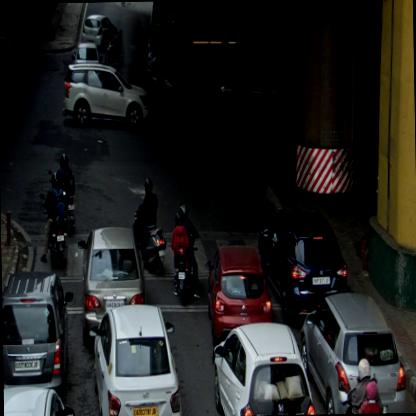bus: (143, 0, 237, 72)
car: (298, 292, 408, 414), (88, 302, 183, 415), (257, 208, 346, 324), (211, 320, 319, 415), (2, 272, 74, 392), (78, 224, 147, 342), (205, 244, 272, 338), (62, 61, 150, 126), (4, 386, 77, 415), (78, 13, 118, 49)
motorcycle: (132, 178, 166, 274), (170, 204, 200, 304), (38, 170, 67, 266), (338, 356, 386, 413), (53, 150, 75, 234), (148, 57, 179, 103), (102, 26, 126, 66)
